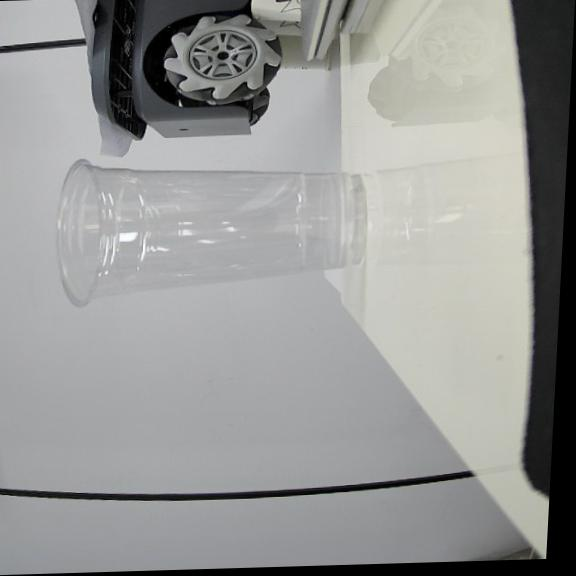Plastik: (58, 159, 365, 305)
